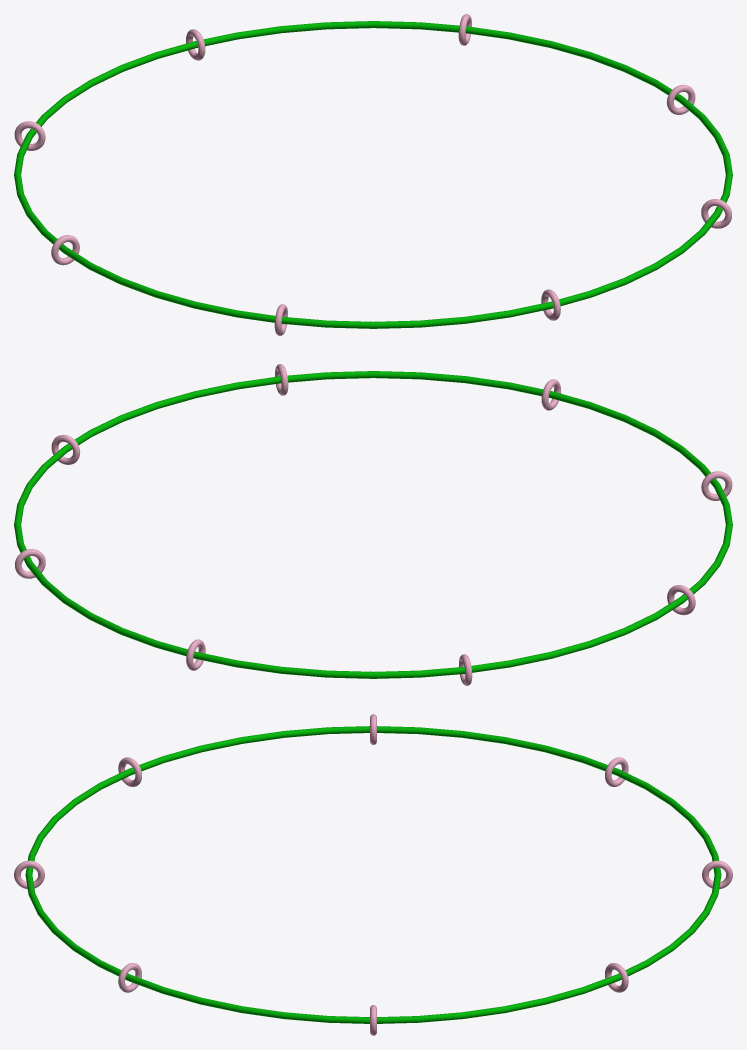
Rendered from spikering2.gltf.
3 renders of one model, top to bottom at view 1: azimuth 30°, elevation 25°; view 2: azimuth 150°, elevation 25°; view 3: azimuth 270°, elevation 25°, orthographic. The views are drawn at different scales.
Parts seen in each view (by area): view 1: Torus.001; view 2: Torus.001; view 3: Torus.001.
Part boxes in pixels (left/top/right/bottom): Torus.001: left=14, top=21, right=732, bottom=328; Torus.001: left=14, top=371, right=732, bottom=678; Torus.001: left=25, top=726, right=721, bottom=1023.
Bounding box in the file's own units: 20.87 × 0.9 × 20.87.
